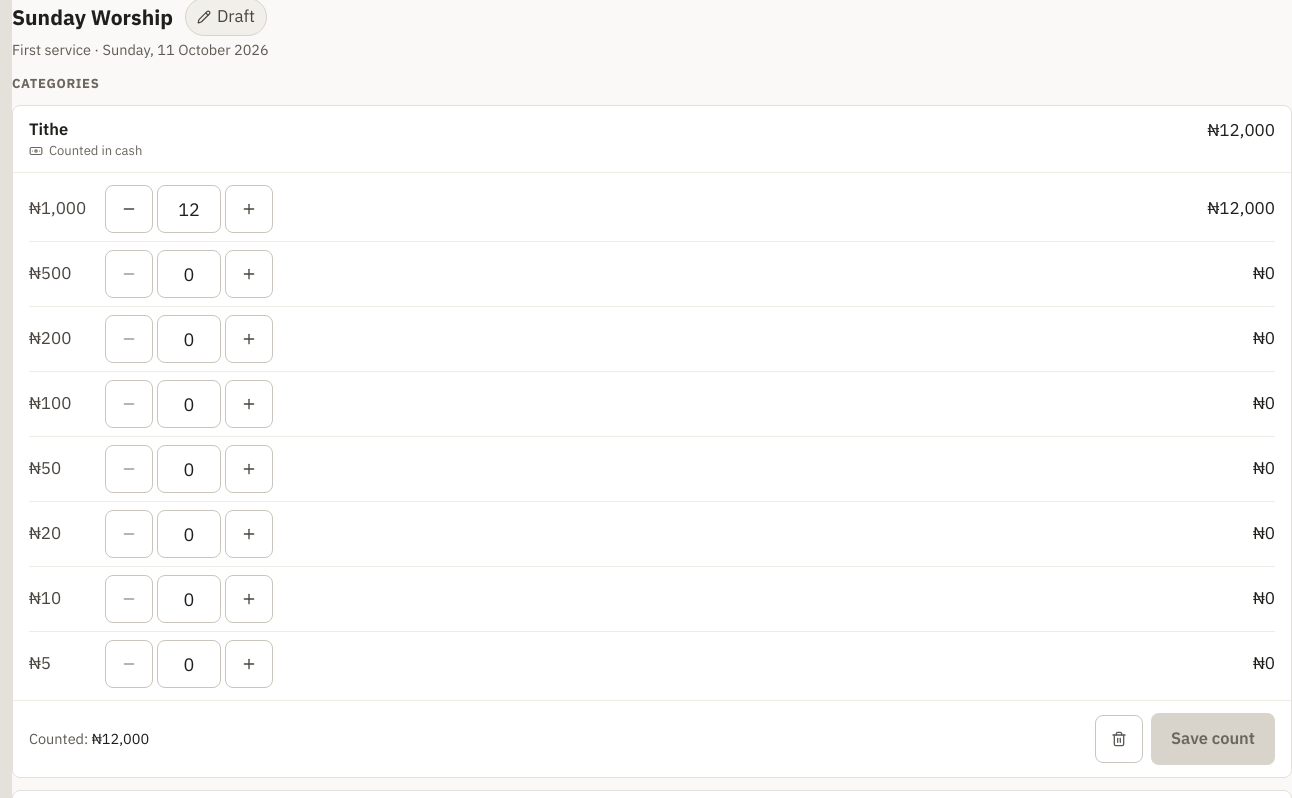
Test: removing a card that was holding an unsaved count › stops it blocking, because the page intersects with what the server sent
Replace the text in the field named "How many 1,000 naira notes" with "20" at (189,209), box 157,185 -> 221,233
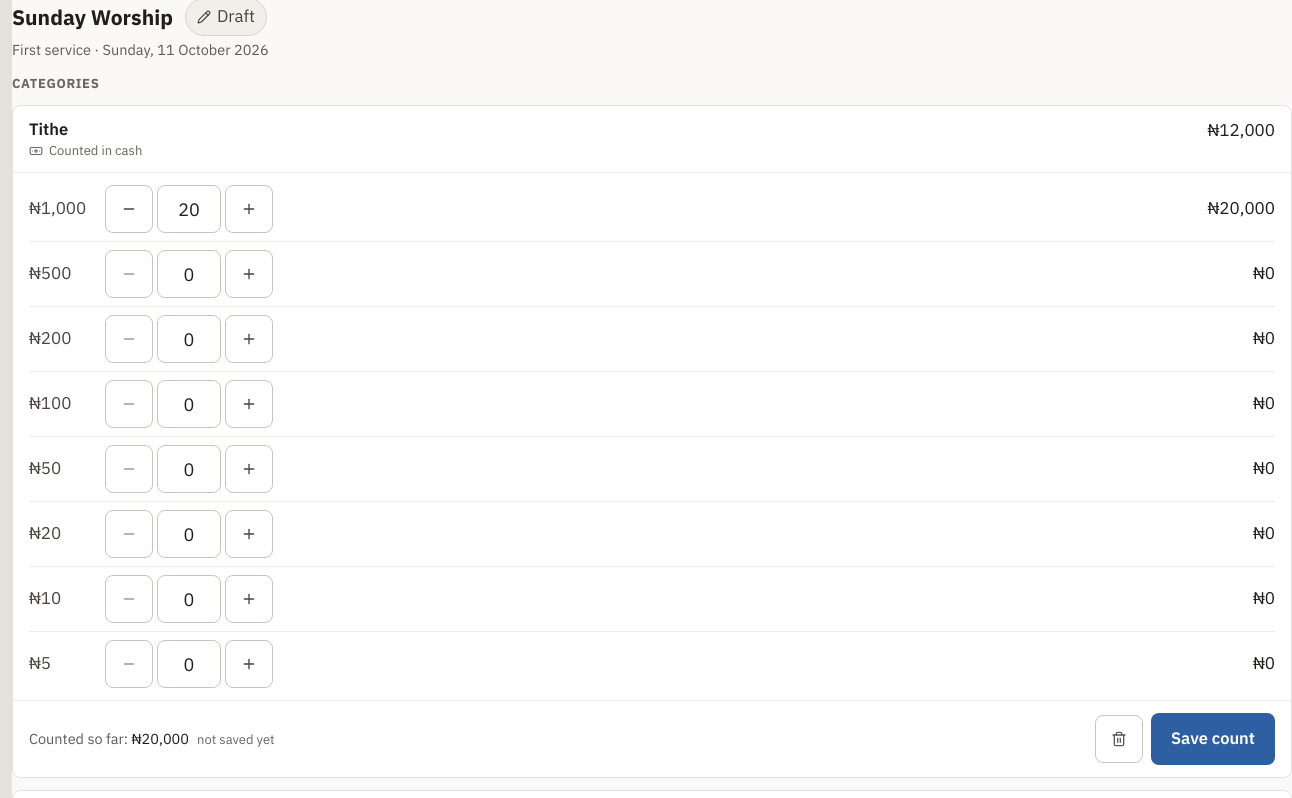
Click the button named "Remove Tithe" at (1119,739), box 1095,715 -> 1143,763
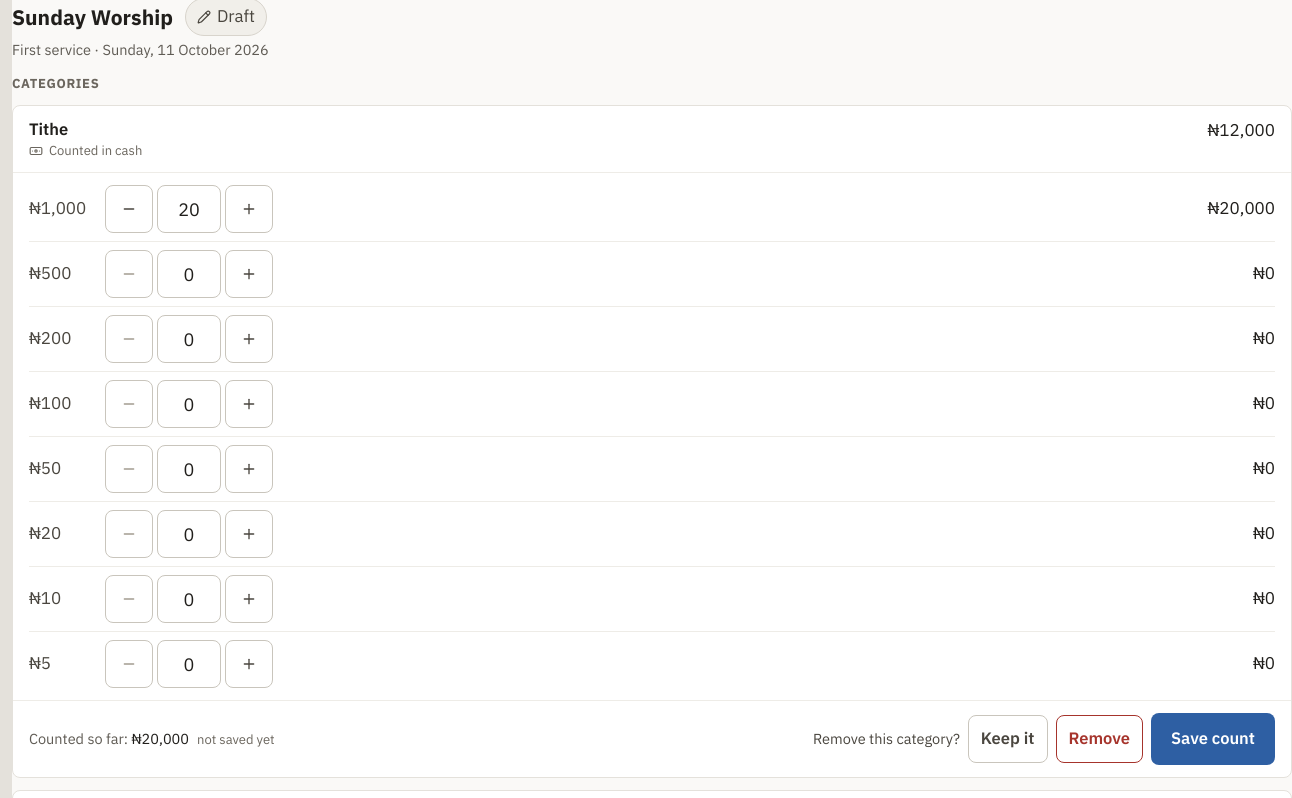
Click the button "Remove" at (1099,739), box 1056,715 -> 1143,763
(page scrolled)
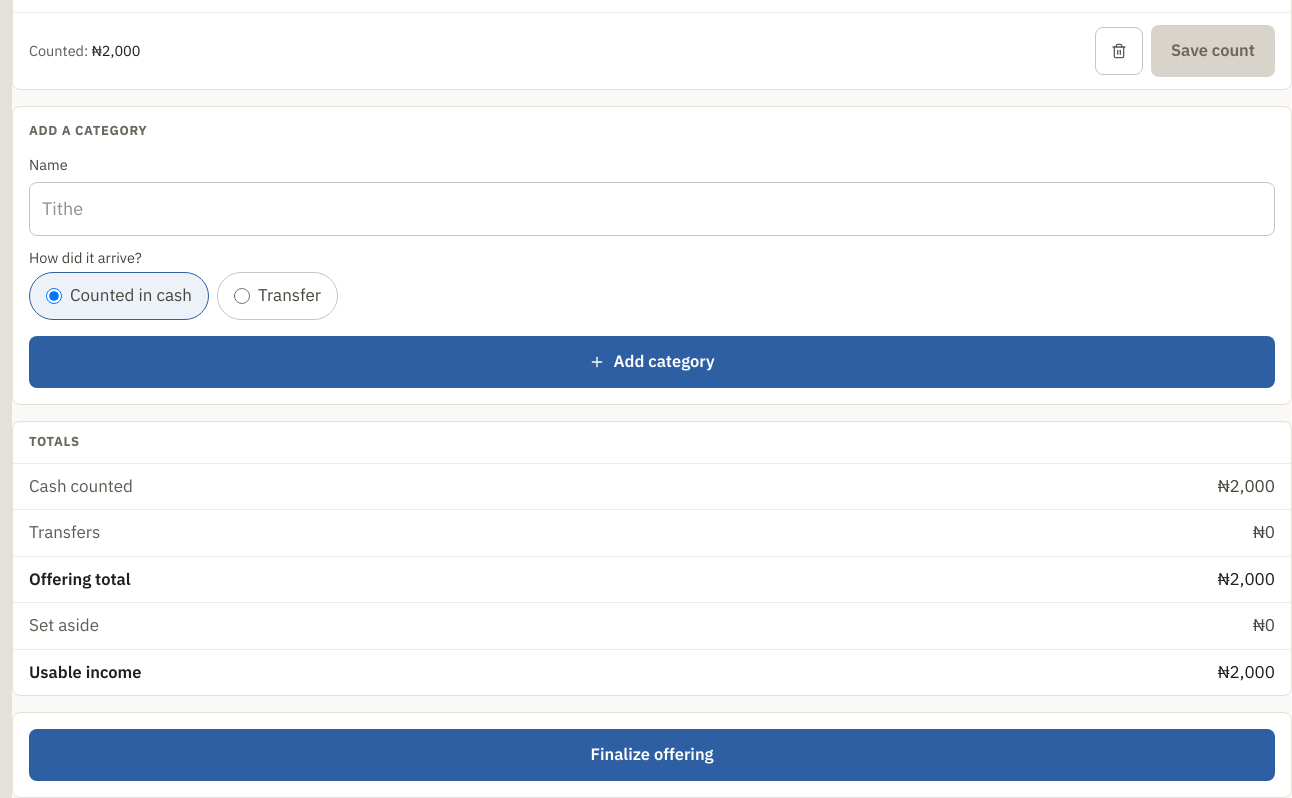
Expected: the heading "first" is not shown
Now the button "Finalize offering" is shown, box 29,729 -> 1275,781
